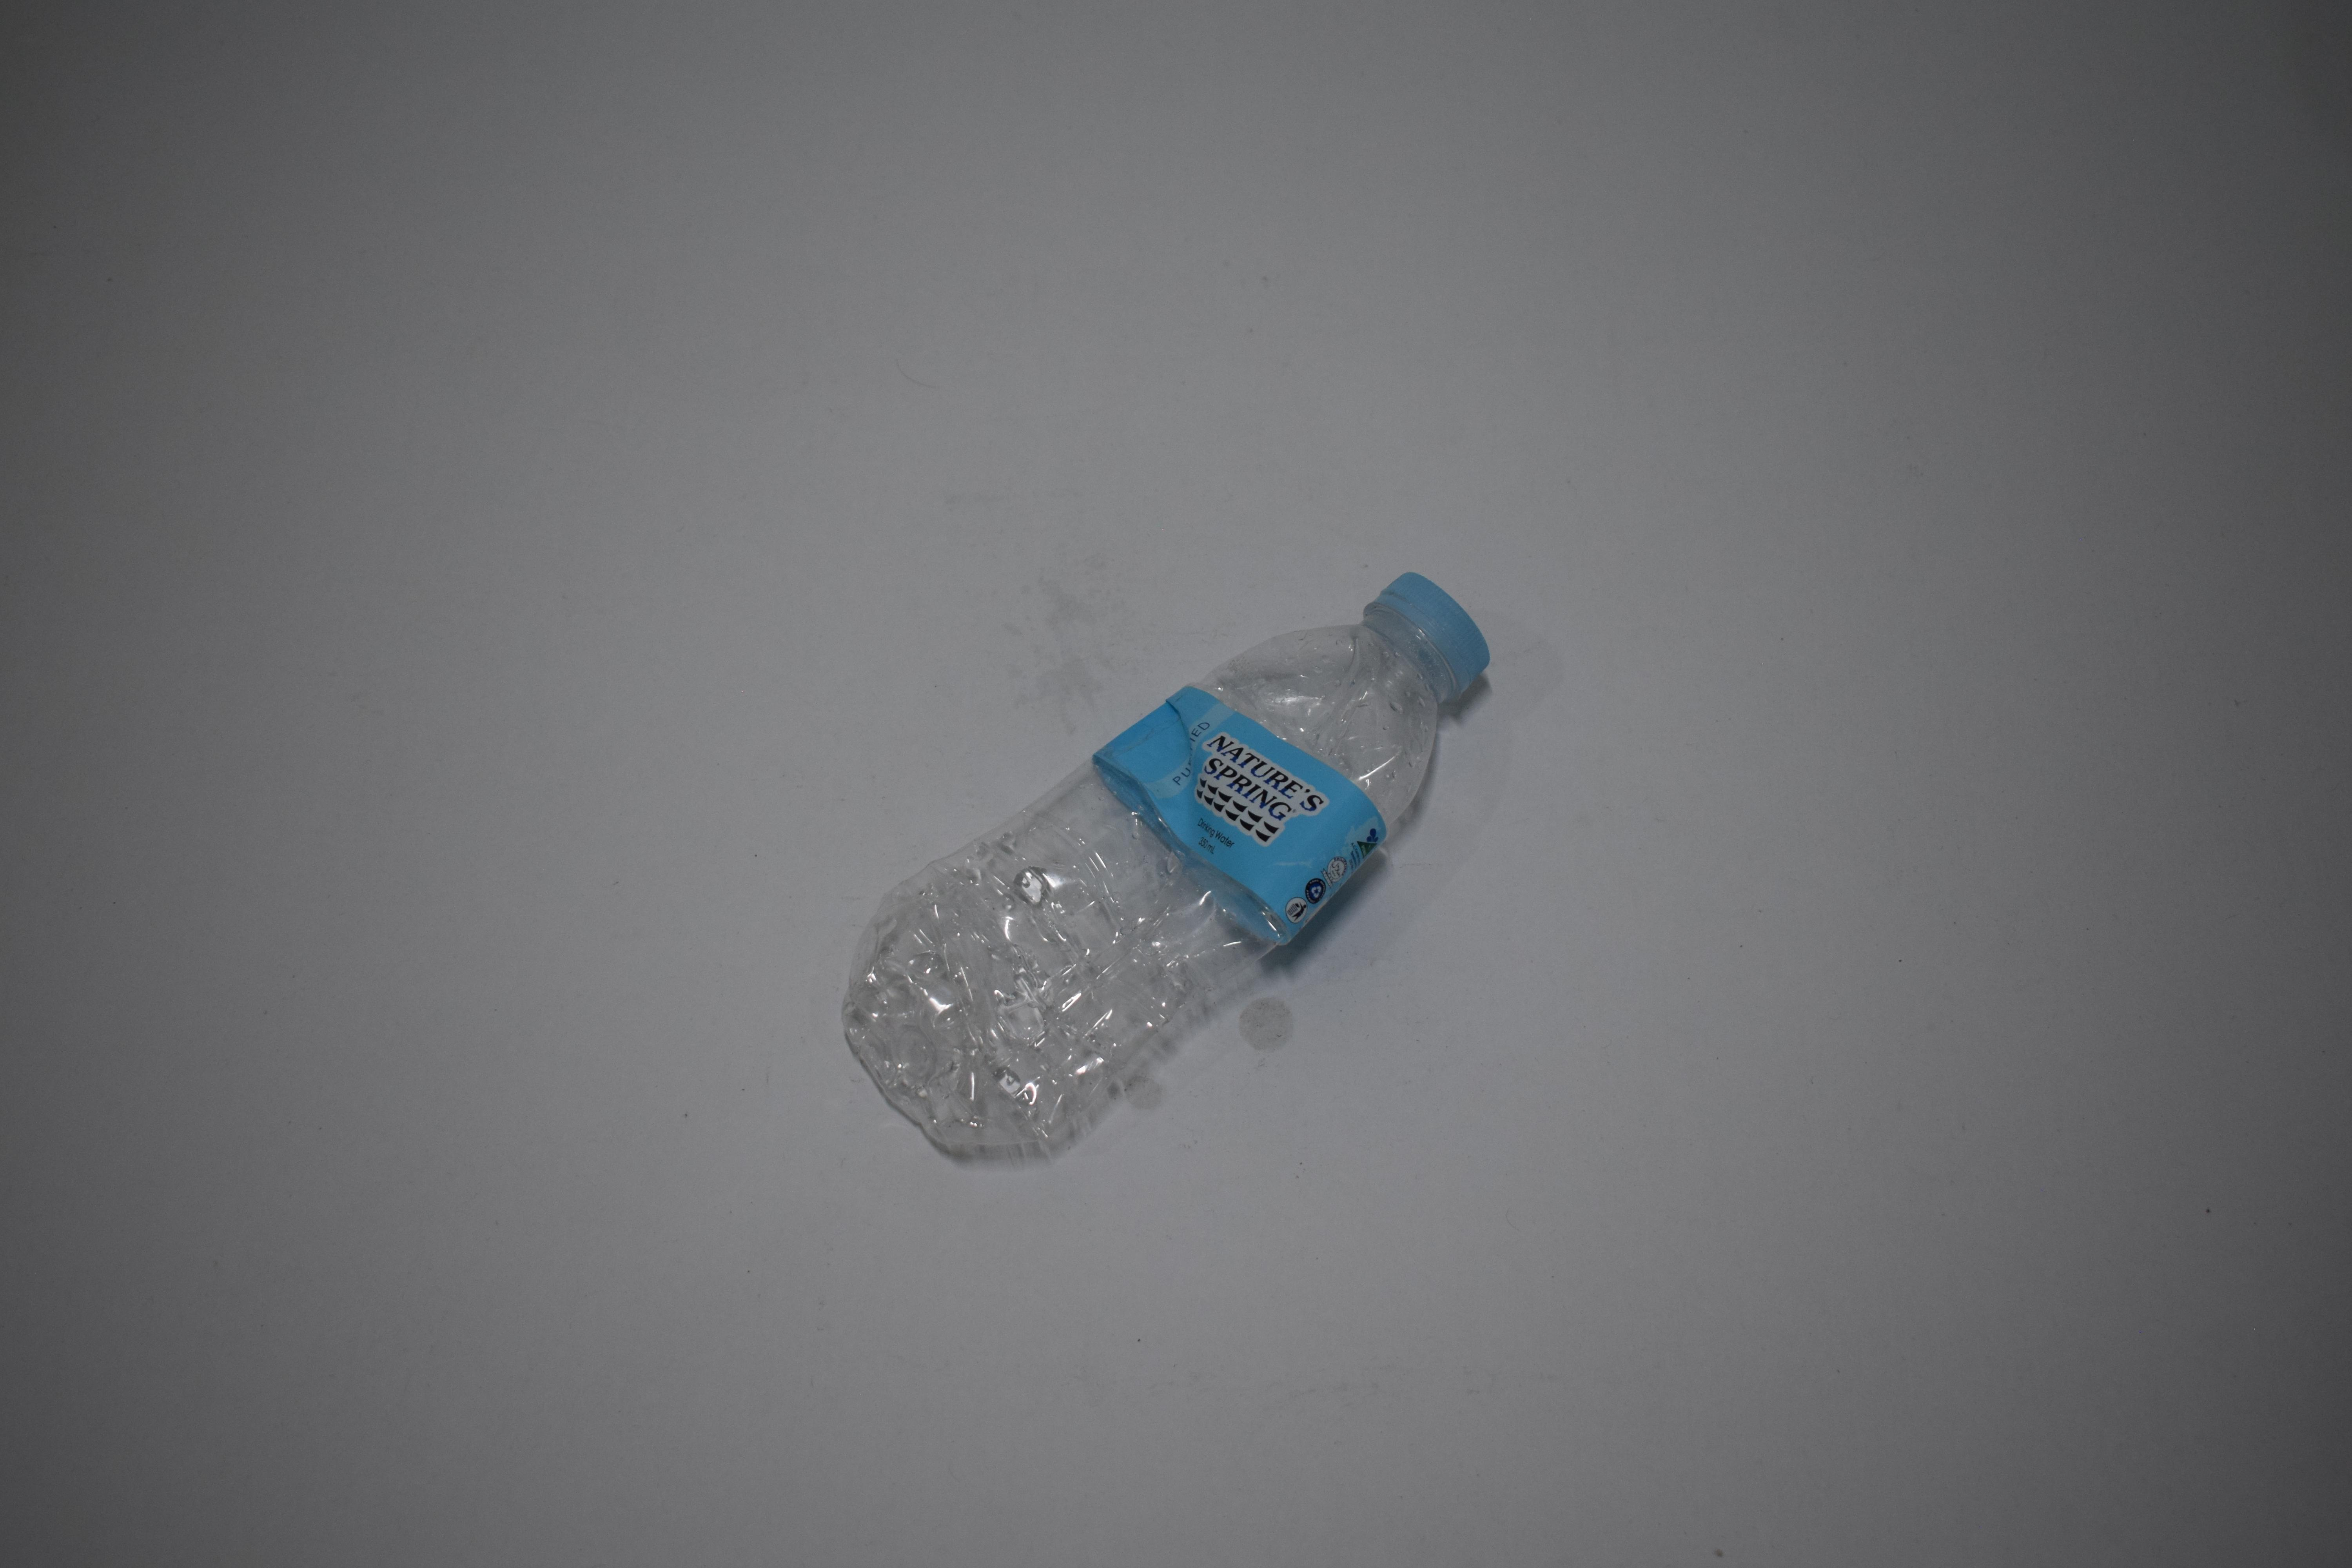bottle: (819, 0, 1486, 305)
